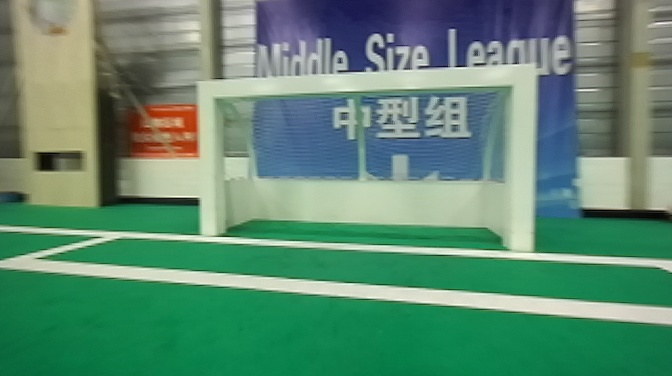goalpost: (495, 56, 547, 259), (192, 73, 227, 240)
